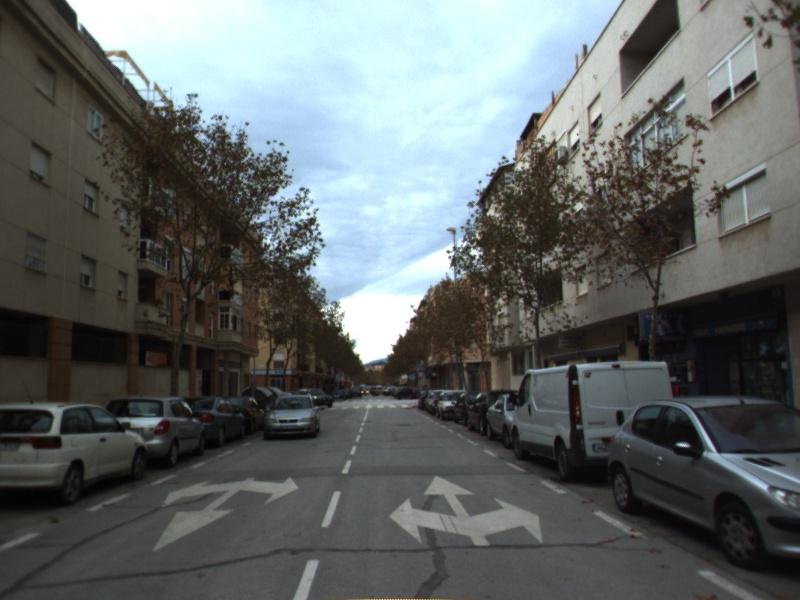STRAIGHT_LEFT_RIGHT: (386, 473, 545, 548)
